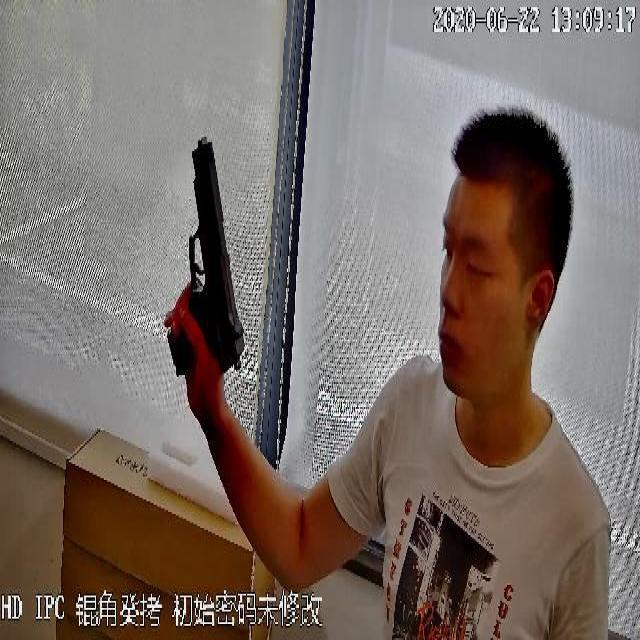pistol: (161, 140, 245, 378)
